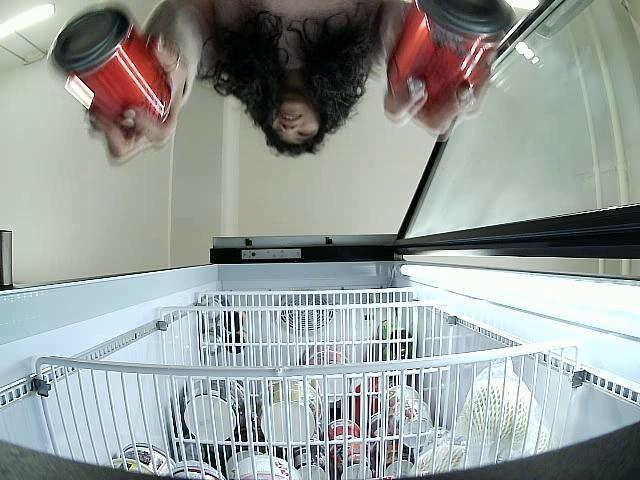11_cocaColaZero: (382, 0, 516, 121), (53, 8, 174, 136)
